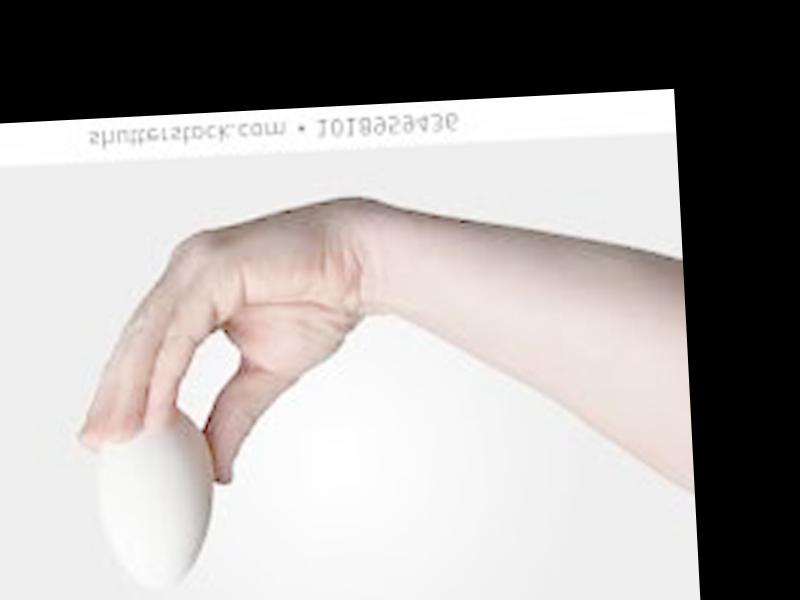Eggs: (89, 403, 219, 595)
